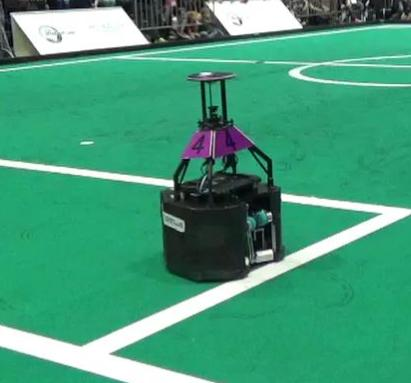robot: (155, 69, 293, 281)
